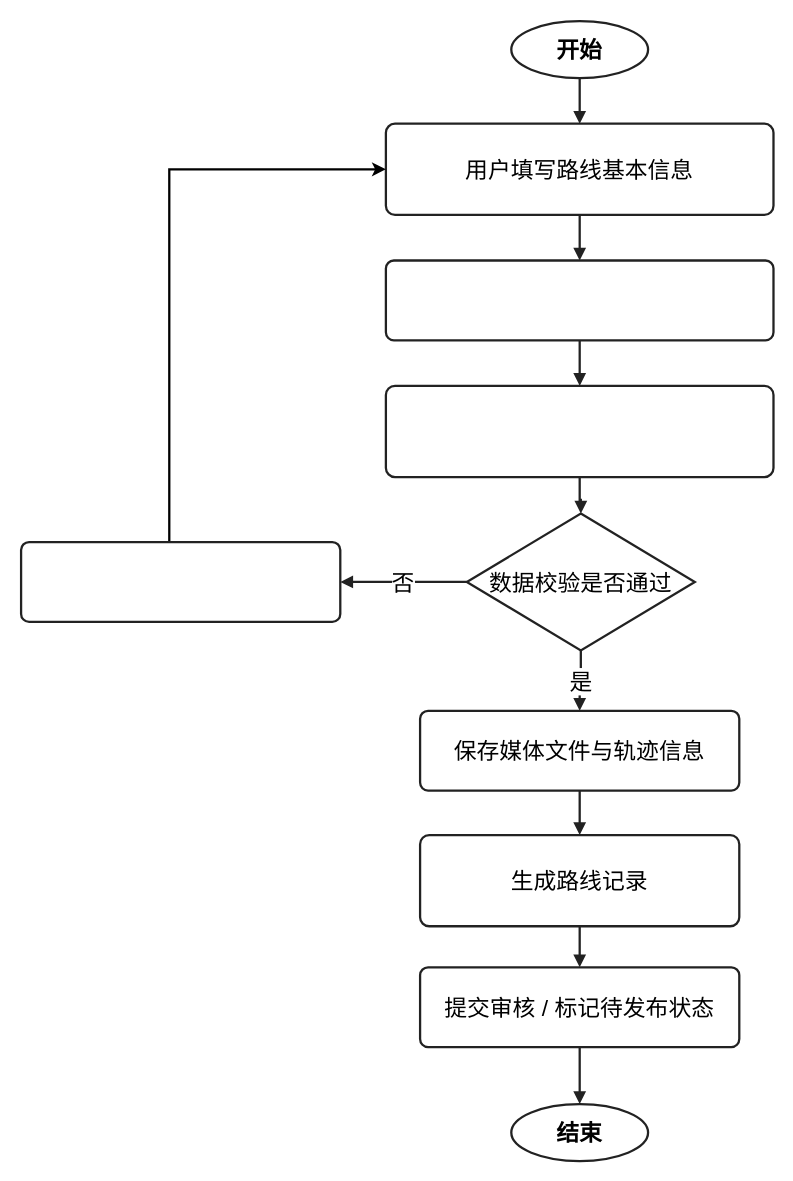
Some shapes in this 793 by 1181 pixel diagram are drawn without their labels. The shapes that lost their labels are listed below. From the top down, each one's centre as x and y in pixels, then its label:
At point (579, 300): "上传封面图、路线图片与轨迹文件".
At point (579, 431): "系统解析轨迹文件".
At point (180, 581): "提示用户修改后重新提交".
